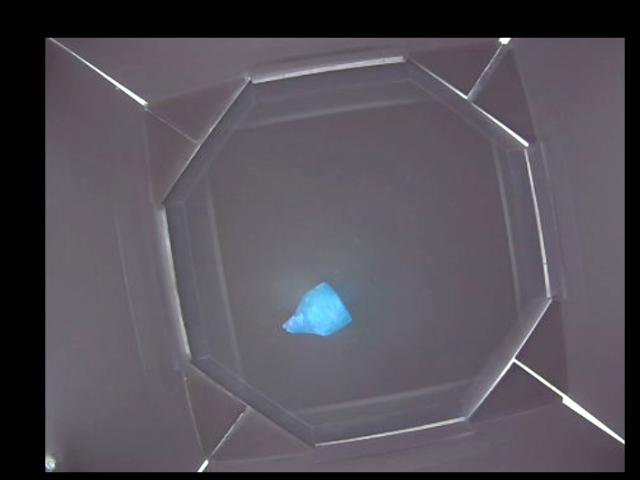Carrot: (280, 281, 350, 334)
